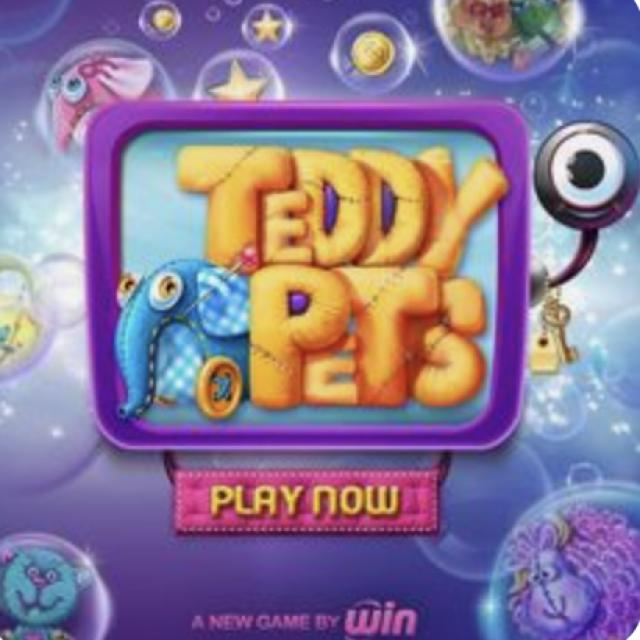Start-button: (175, 460, 449, 543)
